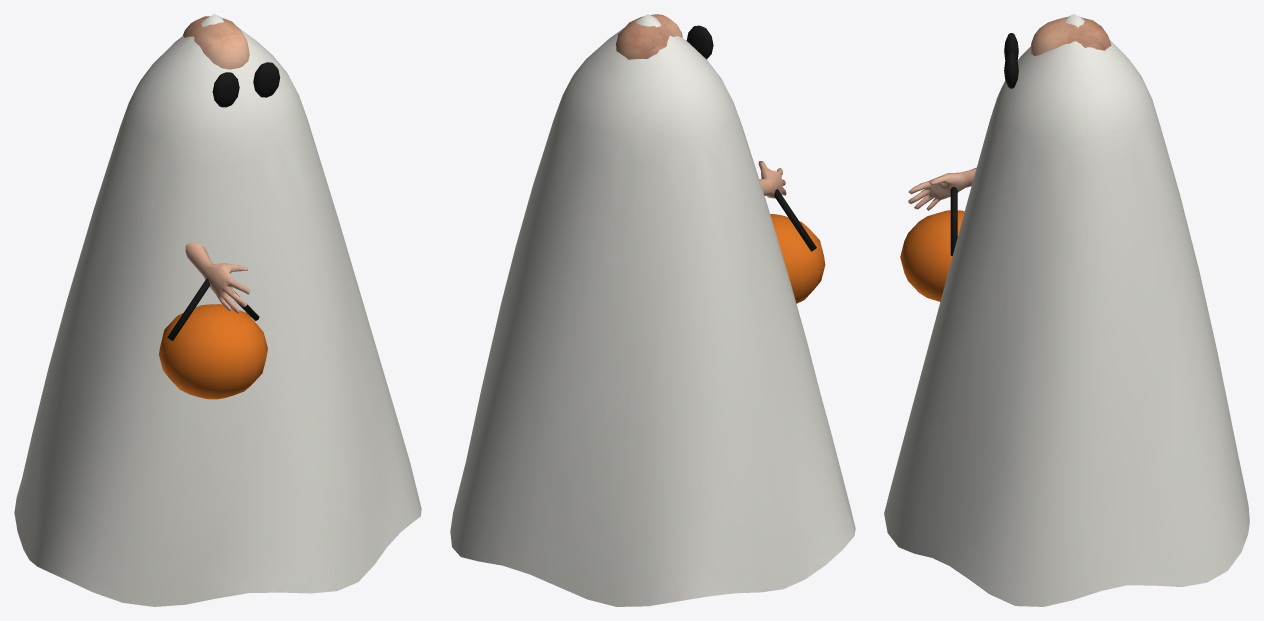
Rendered from mq-kid_ghost.glb.
The picture shows the model from 3 angles, left to right: view 1: azimuth 30°, elevation 25°; view 2: azimuth 150°, elevation 25°; view 3: azimuth 270°, elevation 25°; orthographic projection.
Visible parts, largest first — view 1: MQ_kid_ghost; view 2: MQ_kid_ghost; view 3: MQ_kid_ghost.
Boxes of the visible parts, left/top/right/bottom form: MQ_kid_ghost: left=14, top=14, right=421, bottom=606; MQ_kid_ghost: left=450, top=14, right=855, bottom=606; MQ_kid_ghost: left=884, top=14, right=1249, bottom=606.
Bounding box in the file's own units: 0.8373 × 1.14 × 0.7444.
Materials: 1 (1 with a texture image).
